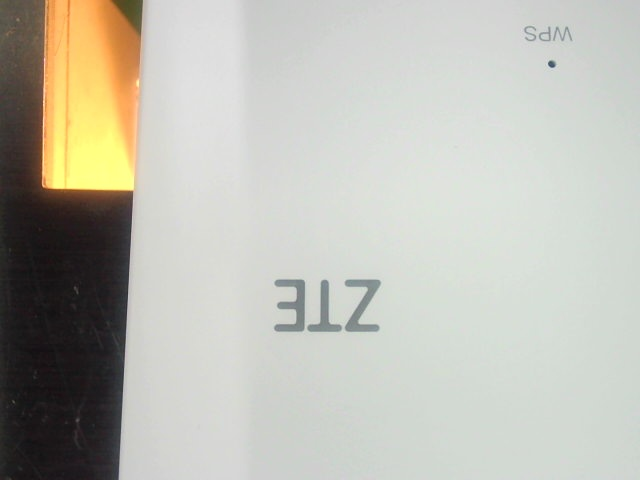AO_ZTESmall: (260, 265, 390, 348)
